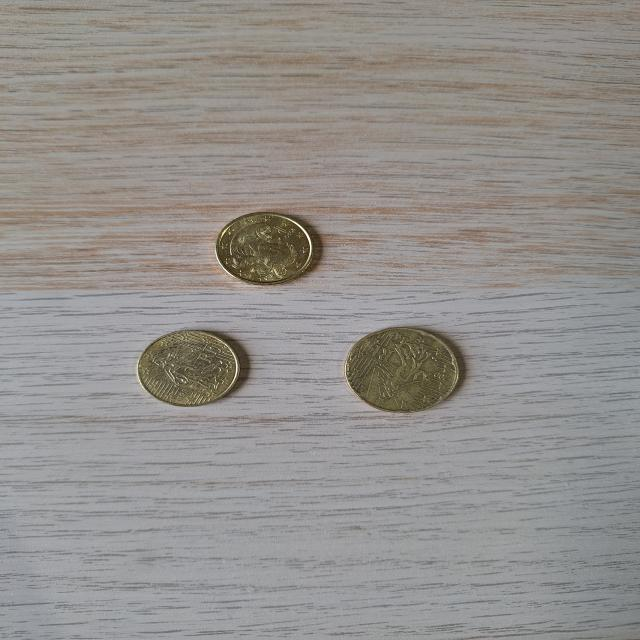10c: (124, 318, 257, 419), (206, 205, 330, 293)
20c: (331, 319, 483, 424)
